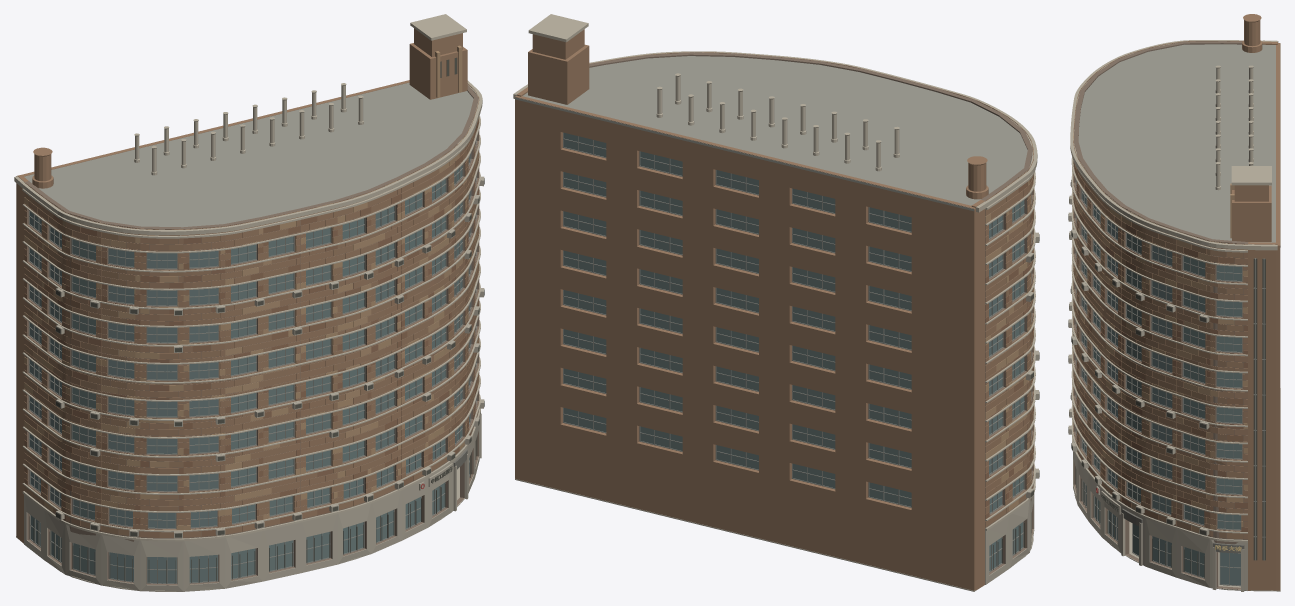
Rendered from jingan-yates-apartments-lod.glb.
3 views of the same model, side by side, from view 1: azimuth 30°, elevation 25°; view 2: azimuth 150°, elevation 25°; view 3: azimuth 270°, elevation 25° (orthographic). The views are drawn at different scales.
Parts seen in each view (by area): view 1: 同孚大楼（中国银行西区分行旧址）; view 2: 同孚大楼（中国银行西区分行旧址）; view 3: 同孚大楼（中国银行西区分行旧址）.
Boxes of the visible parts, x1,y1,x2,y2 form: 同孚大楼（中国银行西区分行旧址）: (14, 14, 484, 591); 同孚大楼（中国银行西区分行旧址）: (513, 14, 1039, 591); 同孚大楼（中国银行西区分行旧址）: (1068, 14, 1280, 591).
Size of the model in its own units: 37.8 by 34.44 by 16.37.
